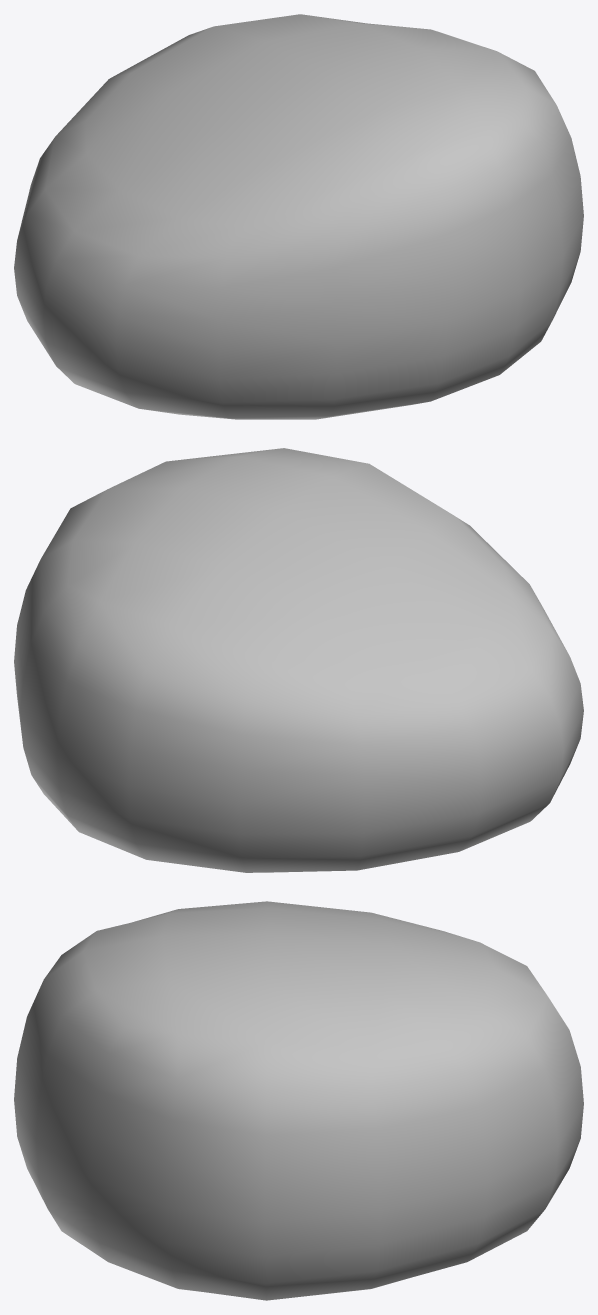
The model's file is Town_4_Stone_4.glb.
3 views of the same model, one above another, from view 1: azimuth 30°, elevation 25°; view 2: azimuth 150°, elevation 25°; view 3: azimuth 270°, elevation 25° (orthographic). The views are drawn at different scales.
Visible parts, largest first — view 1: Town_4_Stone_4; view 2: Town_4_Stone_4; view 3: Town_4_Stone_4.
Boxes of the visible parts, x1,y1,x2,y2 form: Town_4_Stone_4: (14,14,583,419); Town_4_Stone_4: (14,448,583,872); Town_4_Stone_4: (14,901,583,1300).
Bounding box in the file's own units: 1.33 × 0.6883 × 1.22.
Materials: 1 (1 with a texture image).
